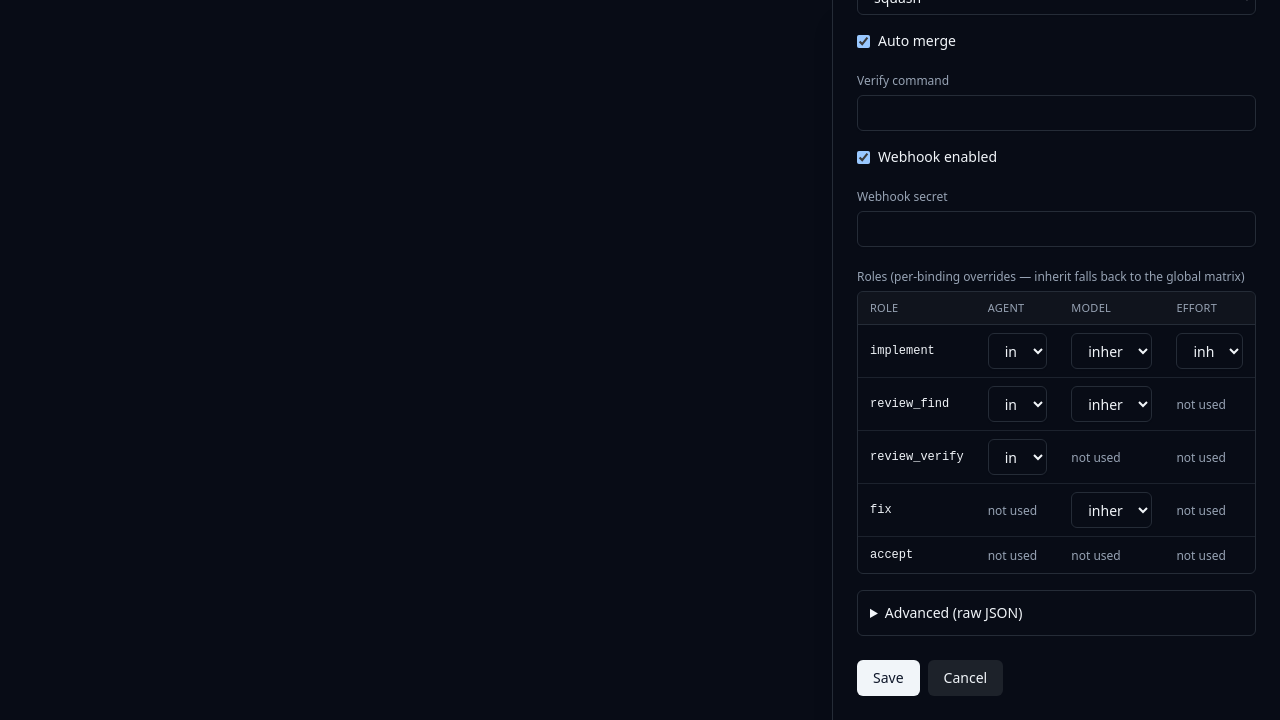
Test case: BindingForm › renders a 422 roles error at the roles matrix, not hidden in advanced
The image size is (1280, 720).
(page scrolled)
Click the button "Save": x=888, y=678 [857,660,920,696]
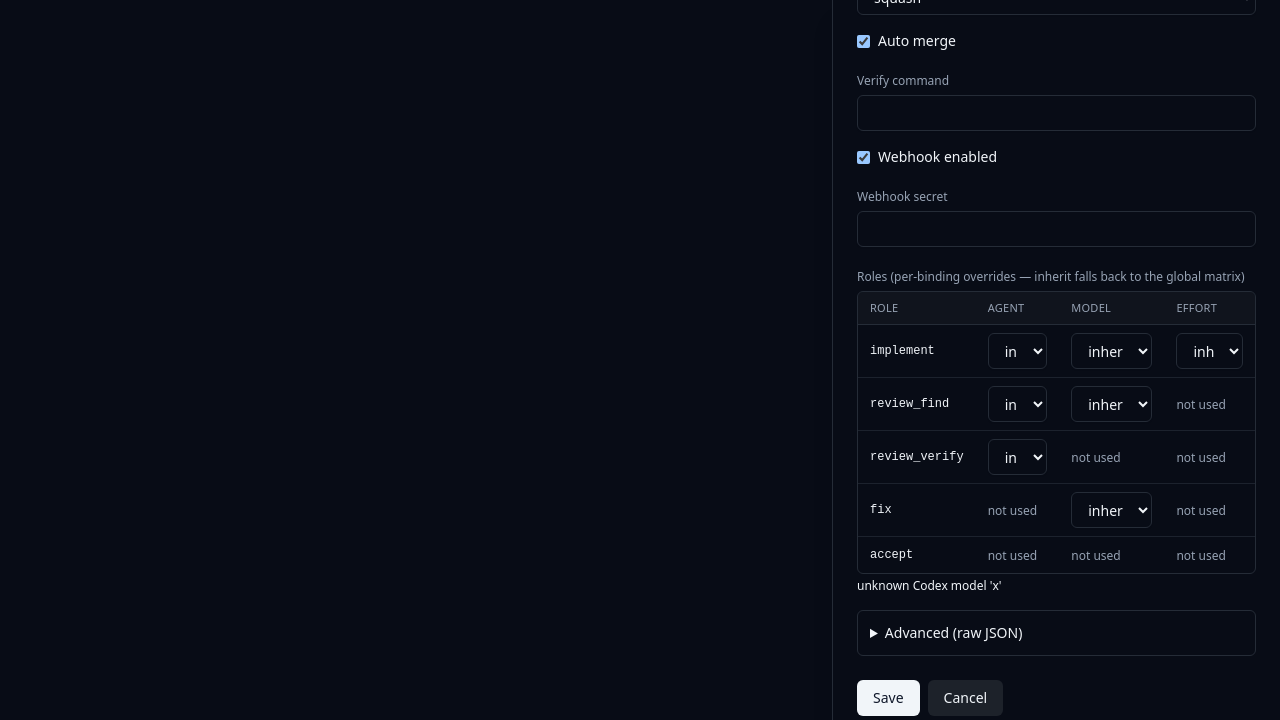
Now the text "unknown Codex model 'x'" is shown, box [857,577,1002,594]
